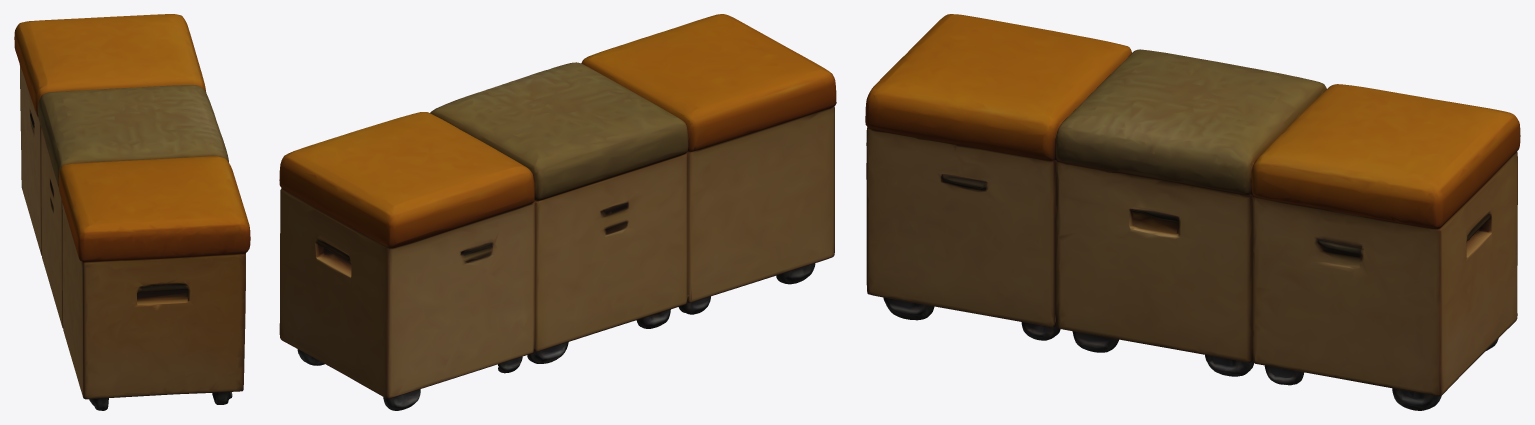
The picture shows the model from 3 angles, left to right: view 1: azimuth 30°, elevation 25°; view 2: azimuth 150°, elevation 25°; view 3: azimuth 270°, elevation 25°; orthographic projection. The views are drawn at different scales.
Parts seen in each view (by area): view 1: instance_0010; view 2: instance_0010; view 3: instance_0010.
Boxes of the visible parts, <box> form: instance_0010: <box>14,14,250,410</box>; instance_0010: <box>279,14,836,410</box>; instance_0010: <box>865,14,1520,410</box>.
Size of the model in its own units: 1.67 by 1.03 by 2.53.
